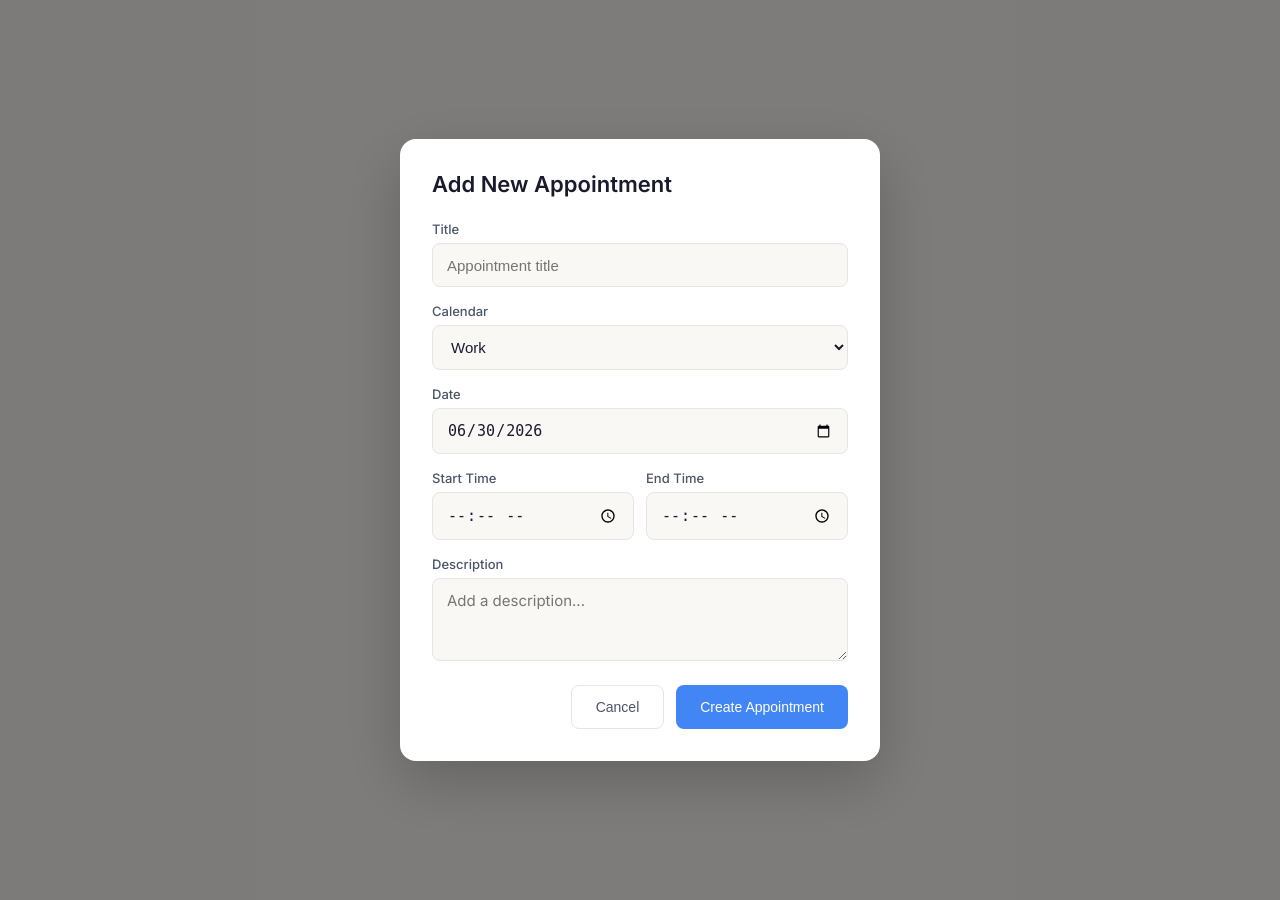
Test: AddEventDialog › auto-sets end time to 30 minutes after start when start time changes
Step 1. Type "09:00" into the time field labelled "Start Time" → (533, 516), box 432,492 -> 634,540
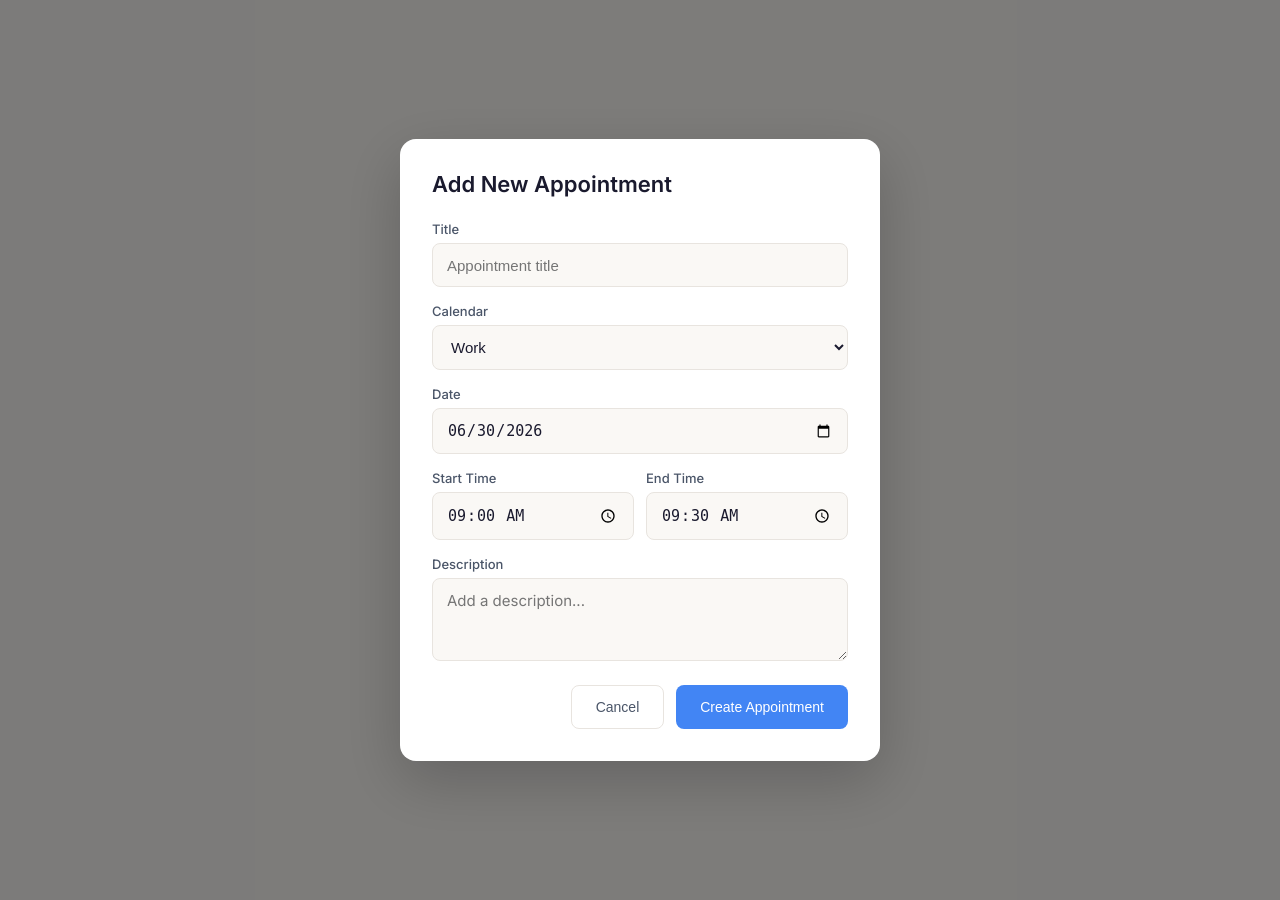
Expected: the time field showing "09:30" is shown, 646,492 -> 848,540
